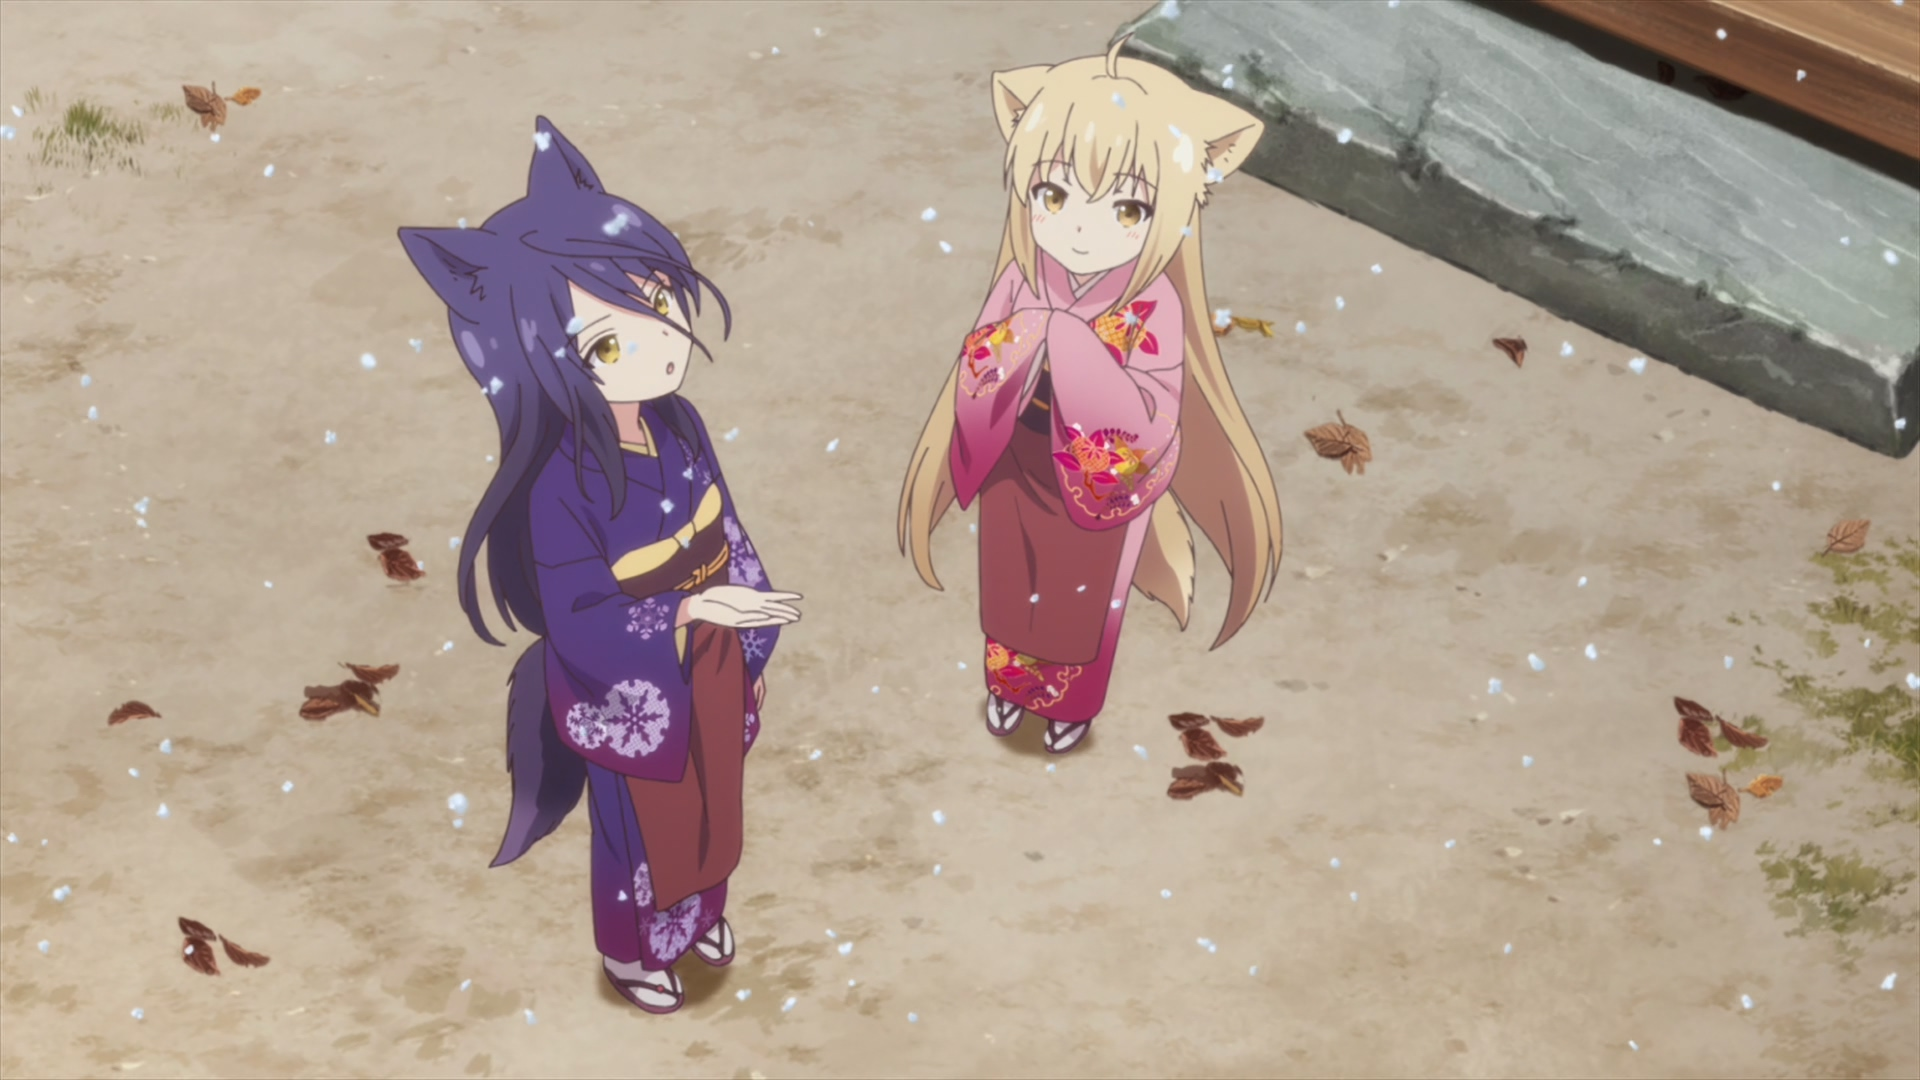柚: (898, 34, 1283, 758)
皋: (396, 116, 802, 1013)
